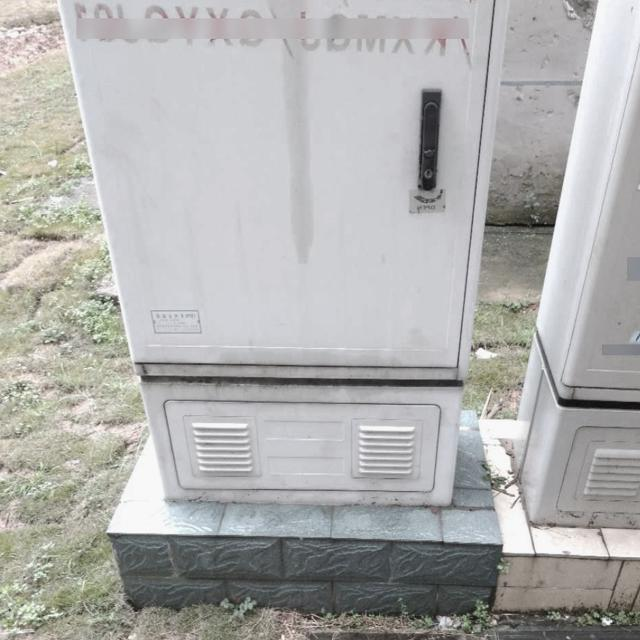good: (494, 624, 640, 640)
